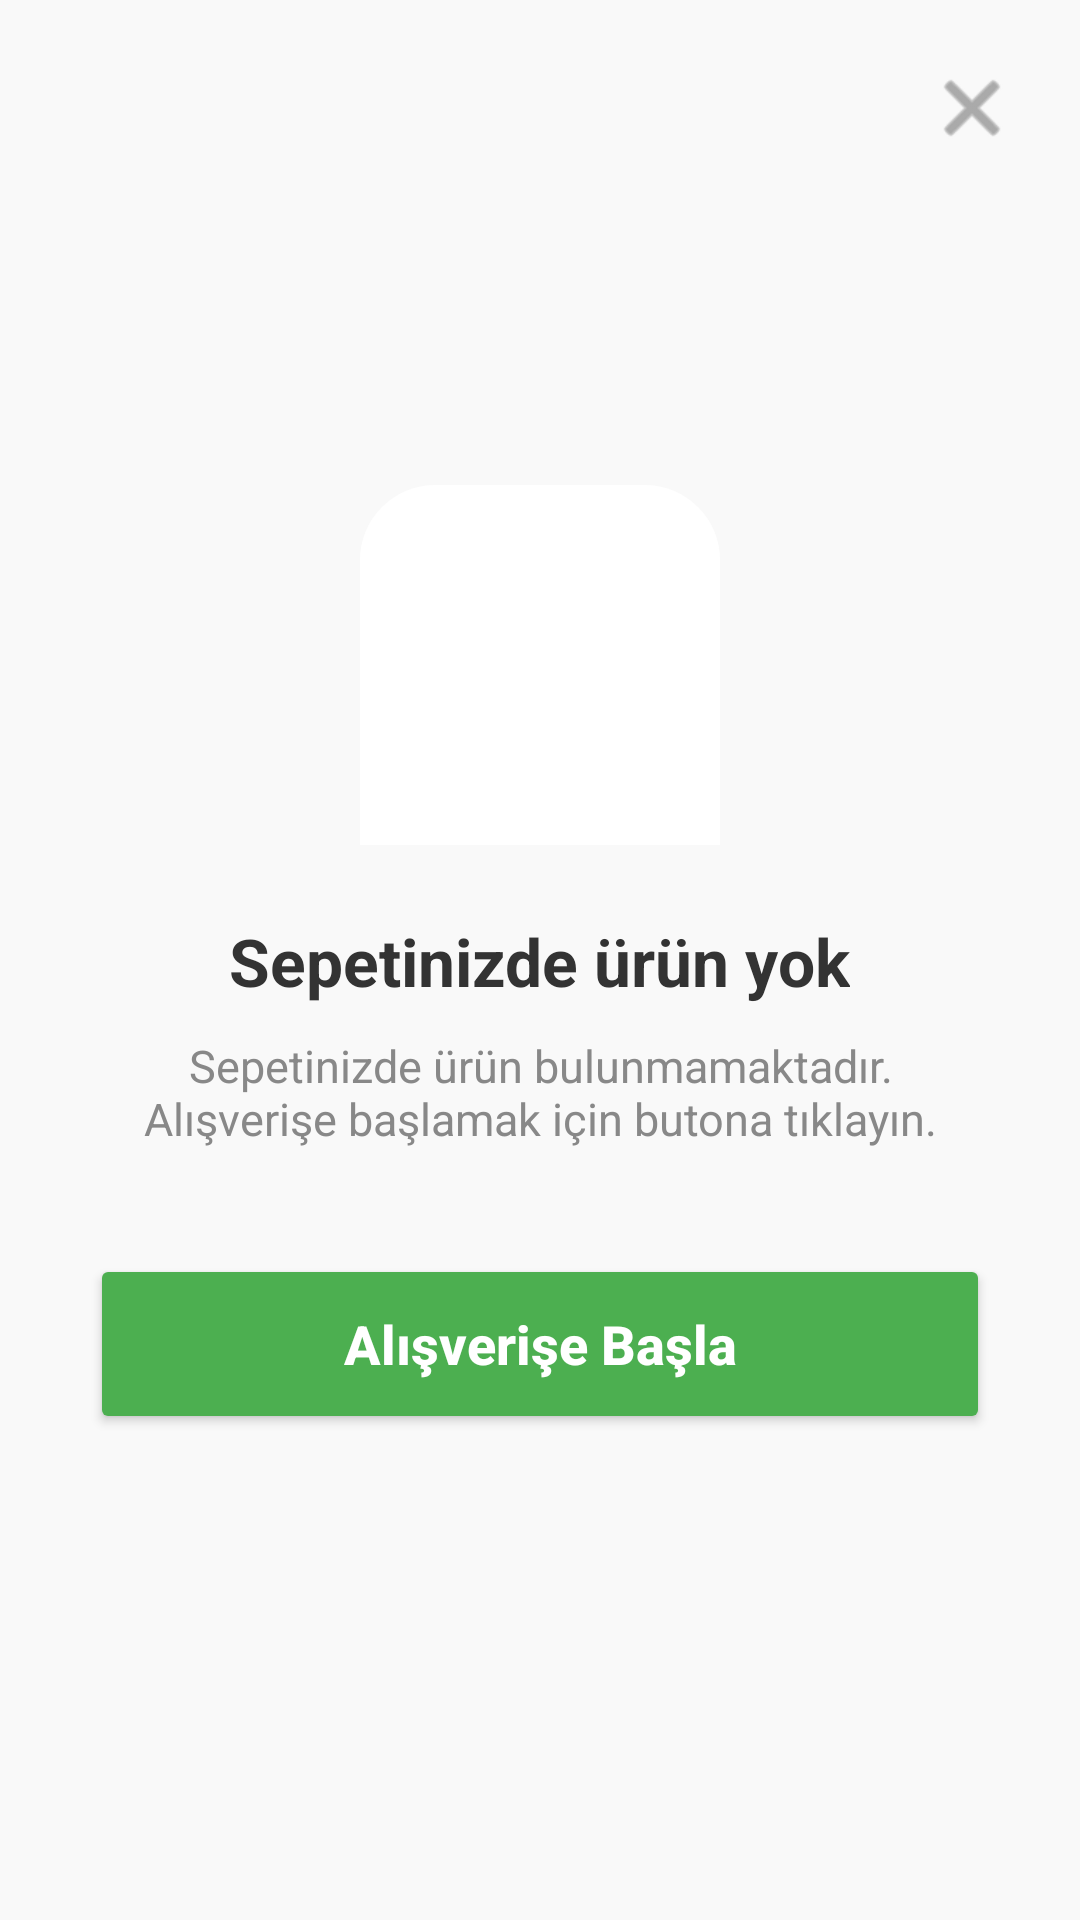

Icons on this 1080px×1920px Android screen, each with its box as BBox(x1, y1, x2, y2):
close clear cancel: BBox(944, 80, 1000, 136)
